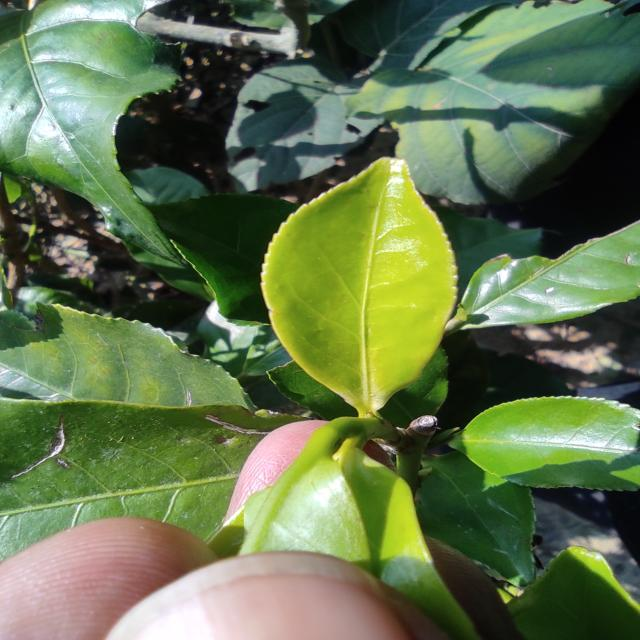Category C(4-7 days): (246, 136, 487, 415)
